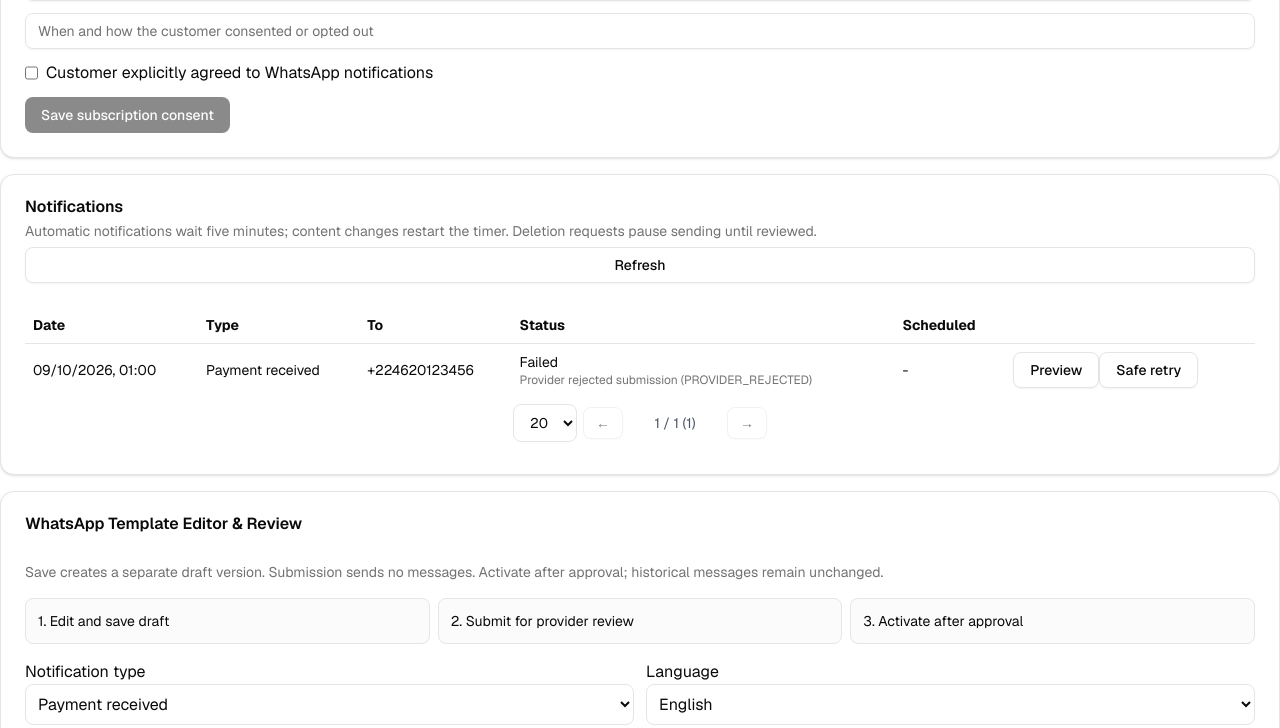
Scenario: reports the actual result of a single retry: blocked
(page scrolled)
Click the button "Safe retry" at (1149, 370), box [1099,352,1198,388]
(page scrolled)
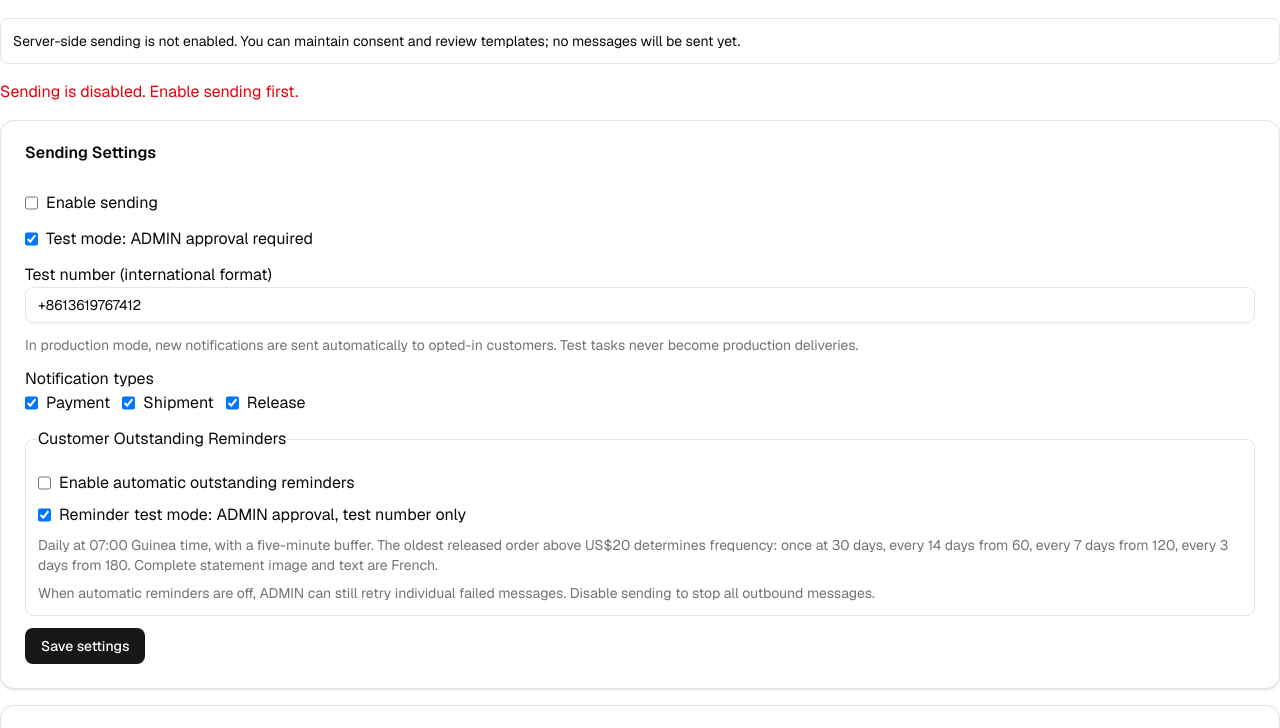
Check: the message "Sending is disabled. Enable sending first." is shown, box [0,81,298,102]
